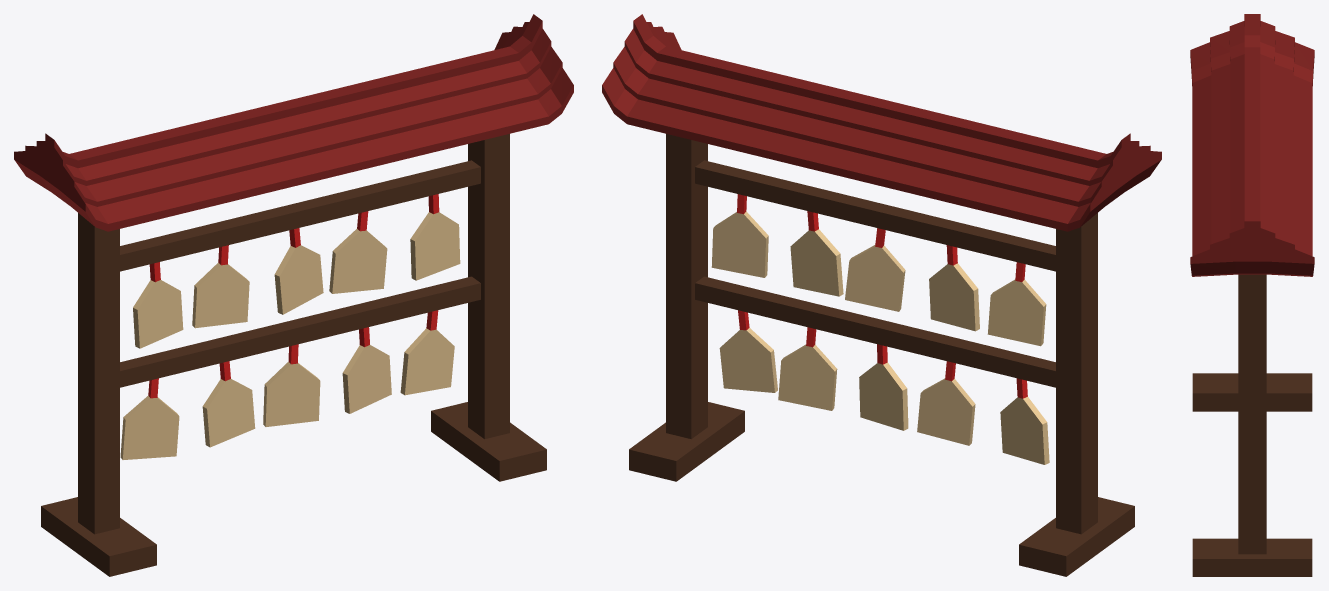
The model's file is ema-rack.glb.
3 renders of one model, left to right at view 1: azimuth 30°, elevation 25°; view 2: azimuth 150°, elevation 25°; view 3: azimuth 270°, elevation 25°, orthographic. The views are drawn at different scales.
Visible parts, largest first — view 1: Frame, Roof, Plaques, Cords; view 2: Frame, Roof, Plaques, Cords; view 3: Roof, Frame.
Part boxes in pixels (x1,y1,x2,y2): Frame: [41, 134, 546, 576]; Roof: [14, 14, 573, 231]; Plaques: [120, 212, 460, 459]; Cords: [148, 194, 439, 398]; Frame: [629, 134, 1134, 576]; Roof: [602, 14, 1161, 231]; Plaques: [711, 211, 1049, 464]; Cords: [737, 194, 1027, 398]; Roof: [1190, 14, 1314, 276]; Frame: [1192, 274, 1312, 576].
Size of the model in its own units: 6.16 by 5.08 by 1.56.
